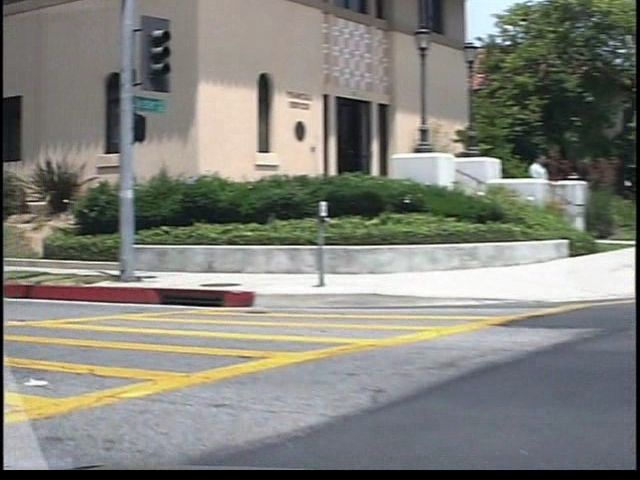person: (509, 144, 534, 223)
